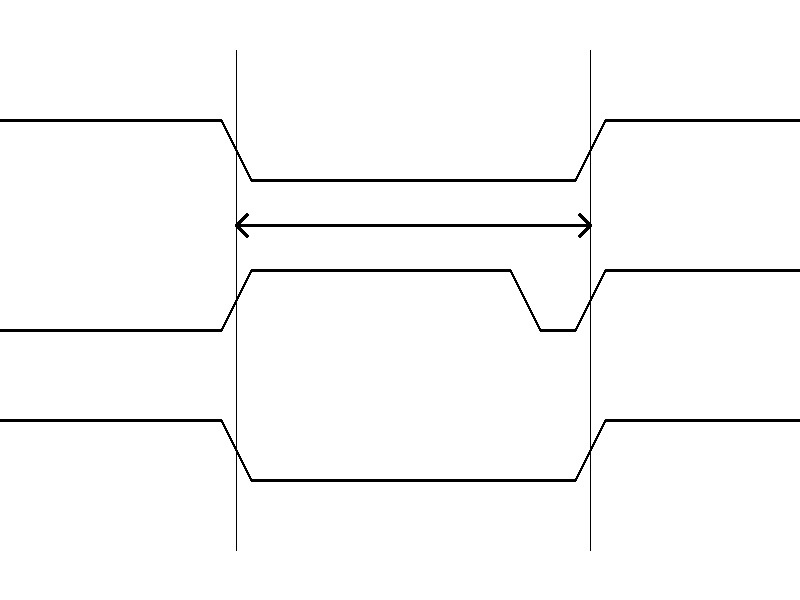double_arrow: (236, 210, 590, 240)
